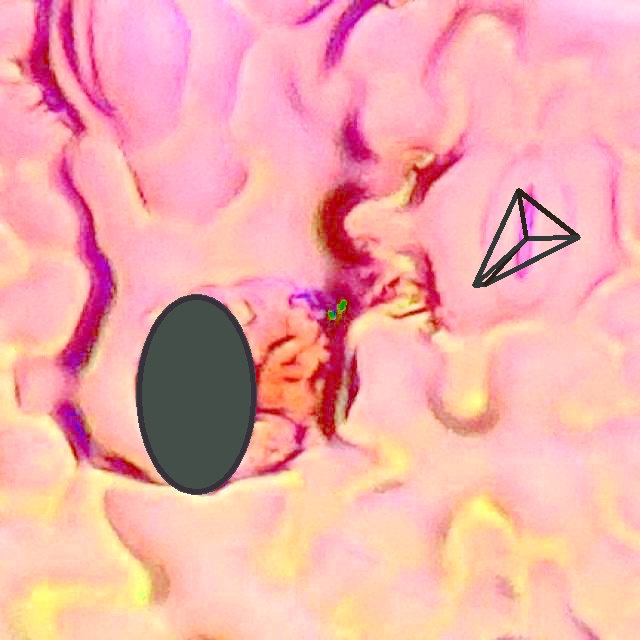open: (136, 295, 255, 494), (472, 189, 579, 286)
